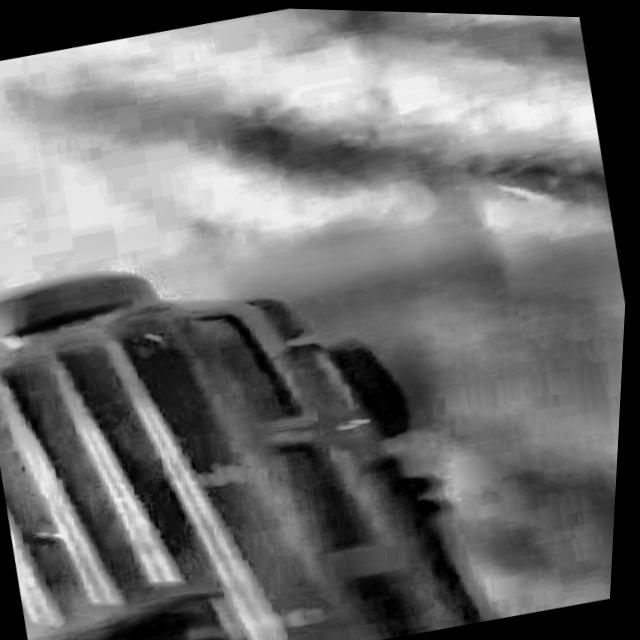light_vehicle: (0, 175, 633, 640)
